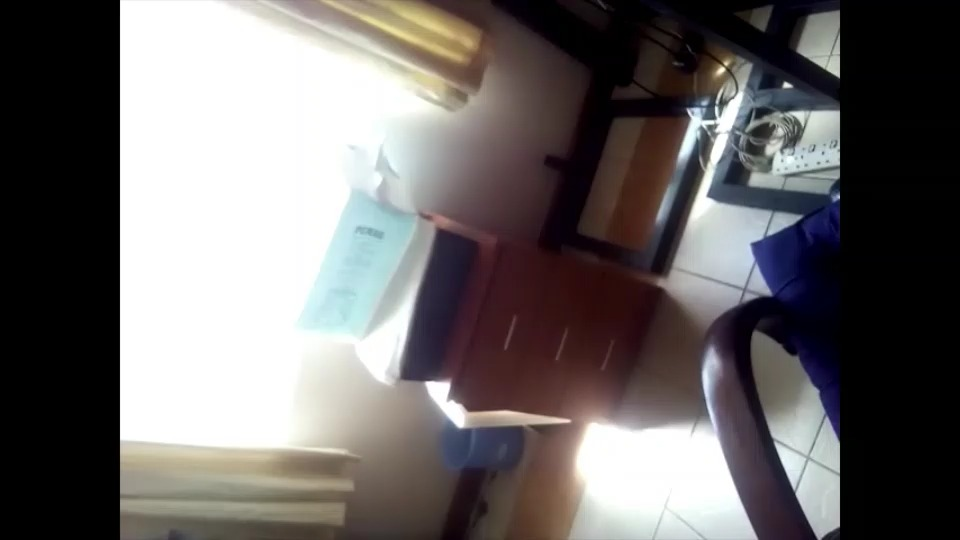wheat_flour_blue_label: (288, 143, 416, 355)
